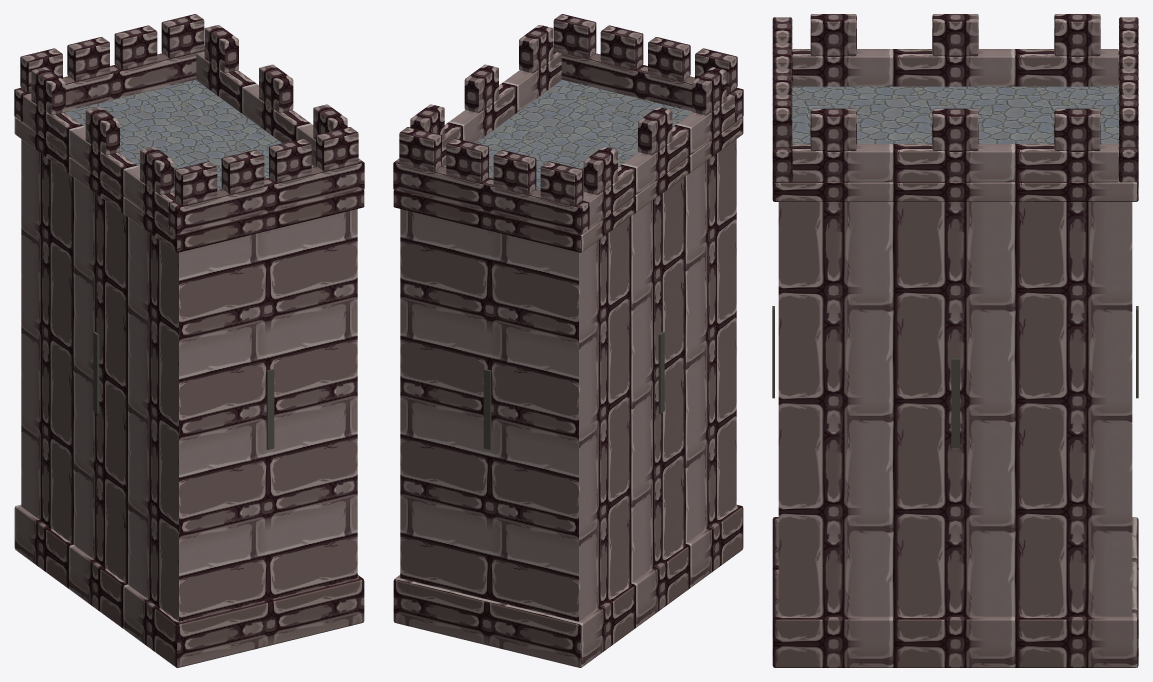
The model's file is stone_tower_square.glb.
3 renders of one model, left to right at view 1: azimuth 30°, elevation 25°; view 2: azimuth 150°, elevation 25°; view 3: azimuth 270°, elevation 25°, orthographic. The views are drawn at different scales.
Parts seen in each view (by area): view 1: prop; view 2: prop; view 3: prop.
Boxes of the visible parts, <box> form: prop: <box>14,14,364,667</box>; prop: <box>393,14,743,667</box>; prop: <box>772,14,1138,667</box>.
Size of the model in its own units: 2 by 5 by 3.
3 materials, 2 textured.
